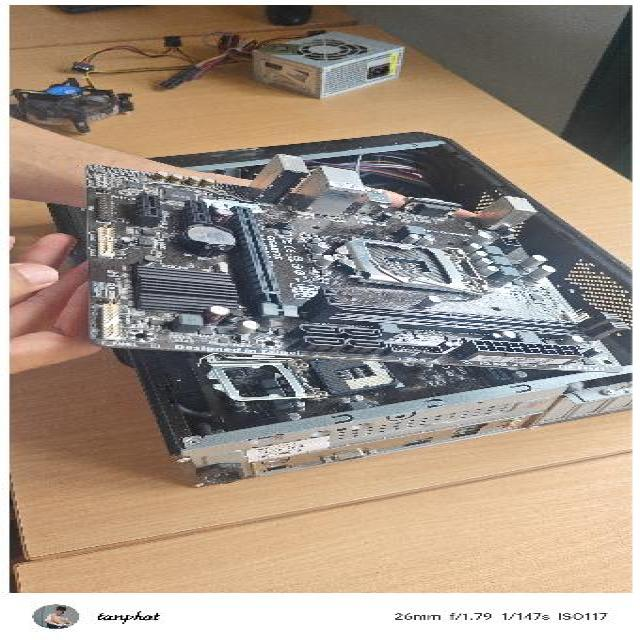CPU_Fan: (10, 70, 150, 140)
Mainboard: (65, 145, 630, 374)
PSU: (145, 18, 448, 111)
